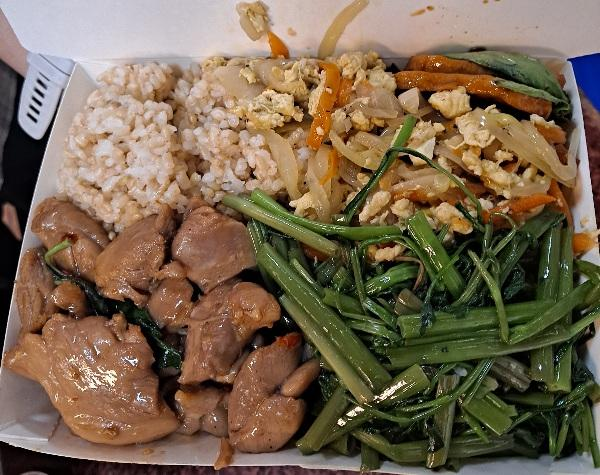big grilled chicken leg: (4, 38, 600, 475)
box: (60, 53, 286, 217)
braised fish fillet: (286, 224, 599, 460), (302, 48, 580, 230)
braised pork: (7, 197, 313, 453)
